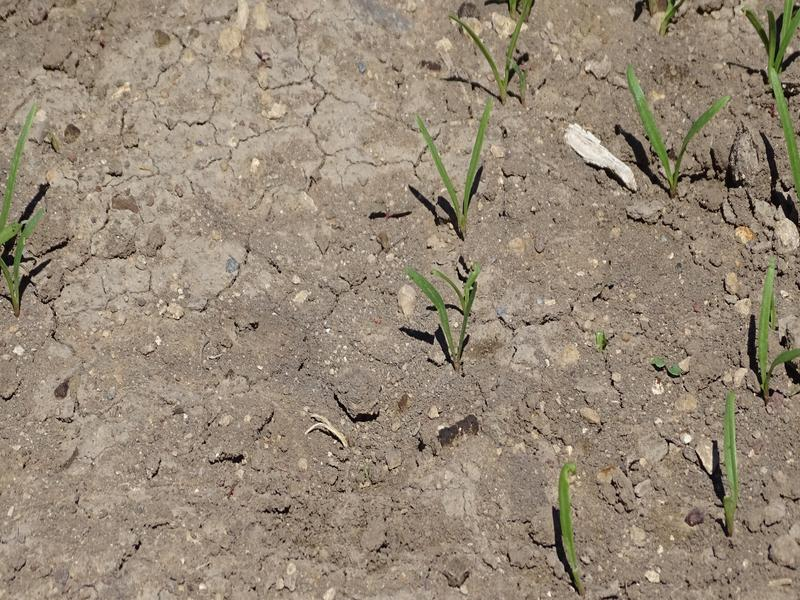Espinaca: (627, 63, 720, 189), (416, 109, 507, 237), (403, 265, 486, 369), (452, 15, 543, 94), (4, 129, 40, 309), (755, 268, 798, 392), (552, 468, 592, 571), (769, 70, 800, 179), (717, 392, 742, 522), (750, 6, 796, 65)
